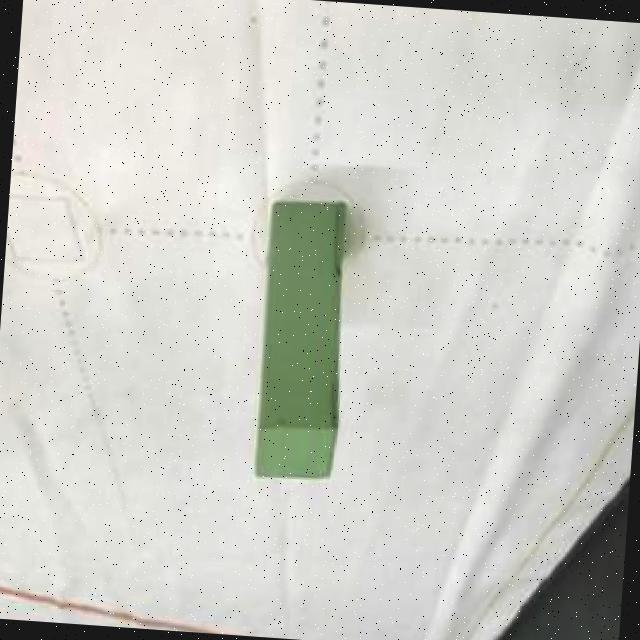greenbox: (245, 197, 359, 488)
